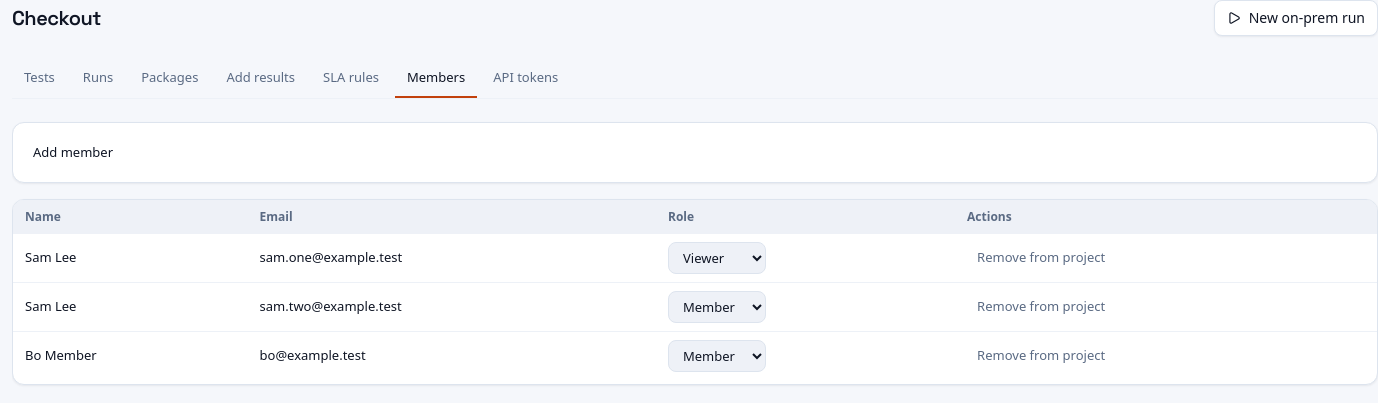
Test case: ProjectMembers — an admin › names every row control after its person, adding the email only where a display name repeats
The width and height of the screenshot is (1378, 403).
Select "Manager" in the dropdown in the row of "sam.one@example.test" at (717, 258), box [668,242,766,274]
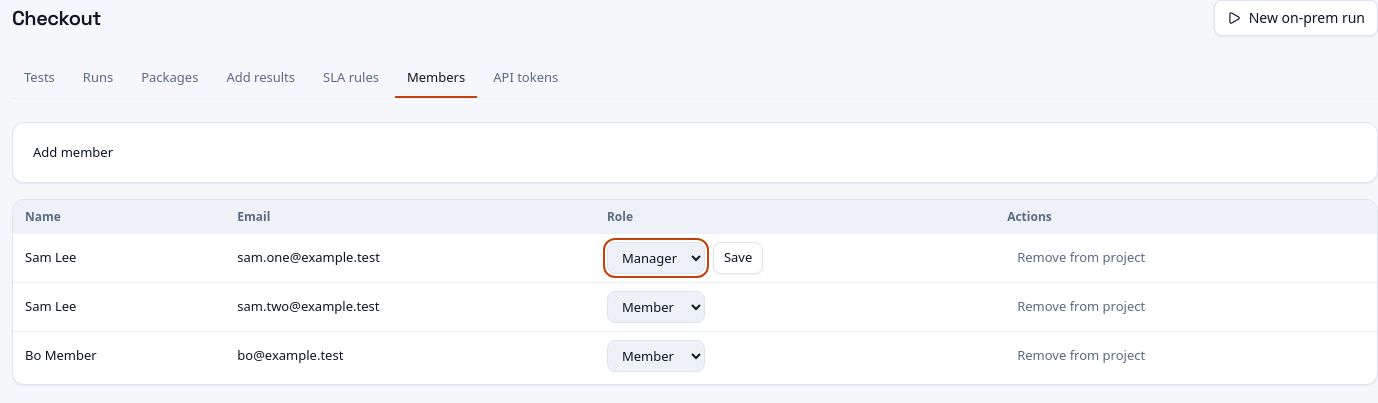
Select "Manager" in the dropdown in the row of "sam.two@example.test" at (656, 307), box [607,291,705,323]
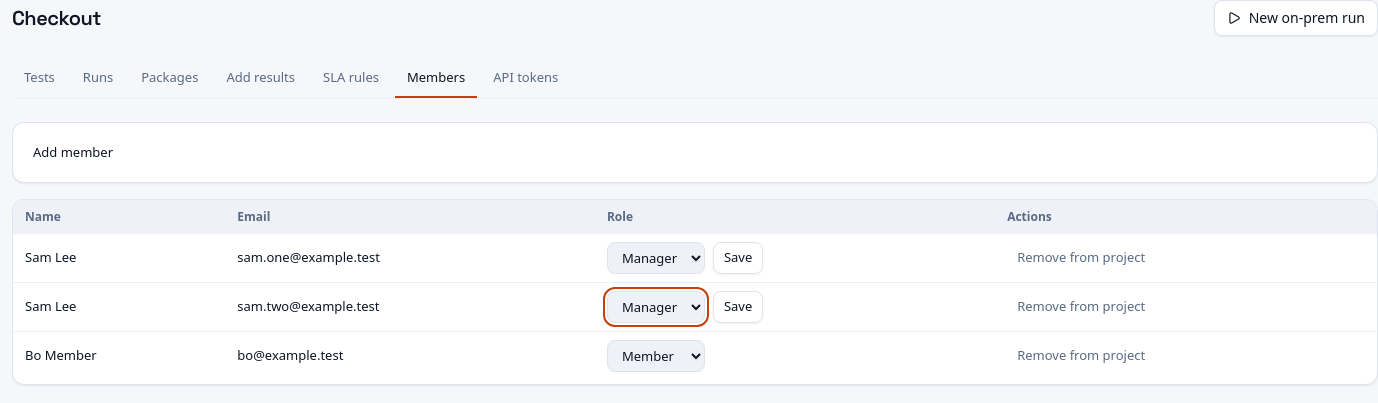
Select "Manager" in the dropdown named "Role for Bo Member" in the row of "Bo Member" at (656, 356), box [607,340,705,372]
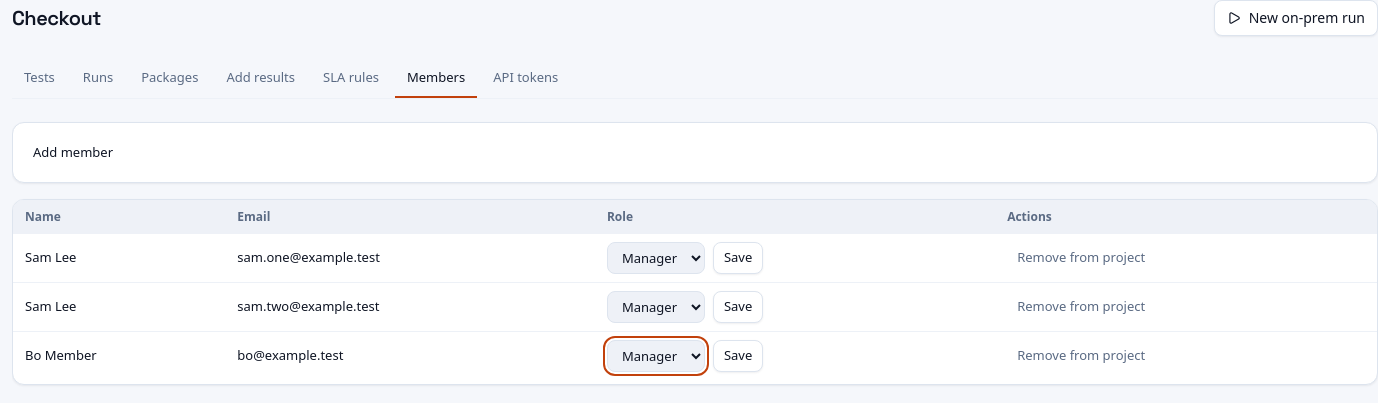
Now the buttons "Save role" read "Save role for Sam Lee (sam.one@example.test)", "Save role for Sam Lee (sam.two@example.test)", "Save role for Bo Member", in this order, box [713,242,763,274]; [713,291,763,323]; [713,340,763,372]
Now the number of buttons named "Save role for Sam Lee (sam.two@example.test)" is 1, box [713,291,763,323]
Now the number of buttons named "Save role for Bo Member" is 1, box [713,340,763,372]
